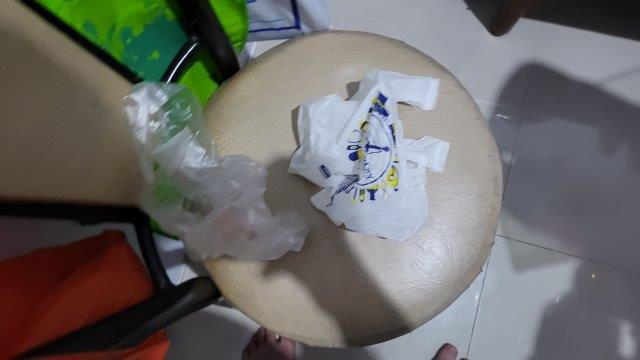plastik: (122, 79, 287, 253), (289, 70, 450, 237)
